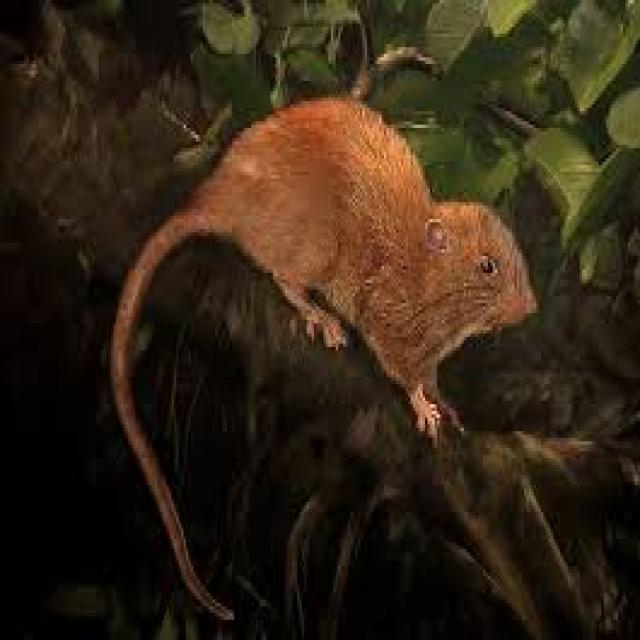rat: (106, 91, 539, 620)
